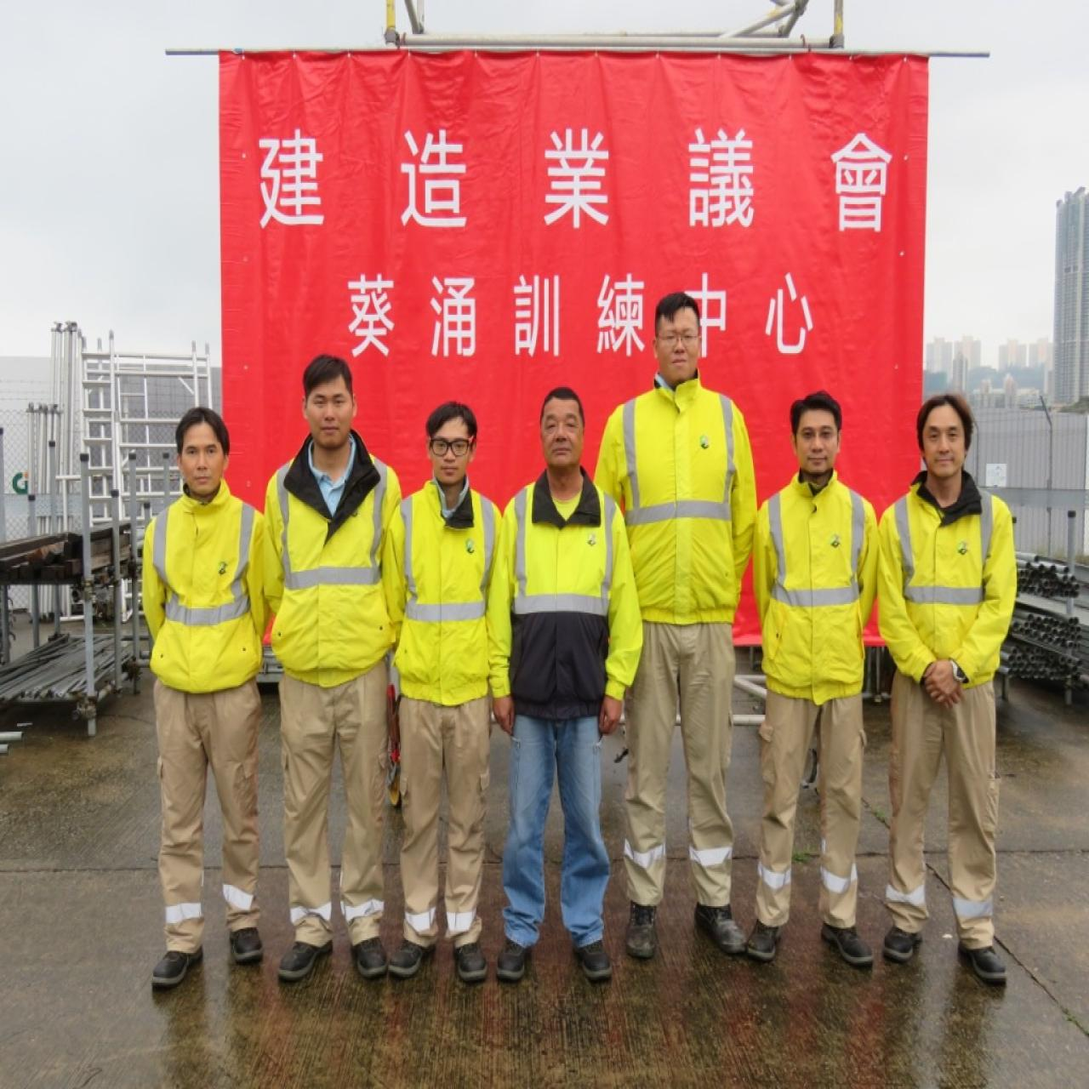NO_Safety_Vest: (600, 378, 752, 617), (263, 445, 403, 679), (490, 473, 632, 696), (876, 478, 1012, 677), (141, 495, 272, 697), (390, 483, 506, 707), (759, 475, 873, 693)
Person: (582, 288, 777, 965), (245, 345, 414, 989), (482, 375, 647, 992), (872, 376, 1026, 993), (124, 402, 280, 1005), (741, 384, 887, 964), (383, 396, 513, 974)
